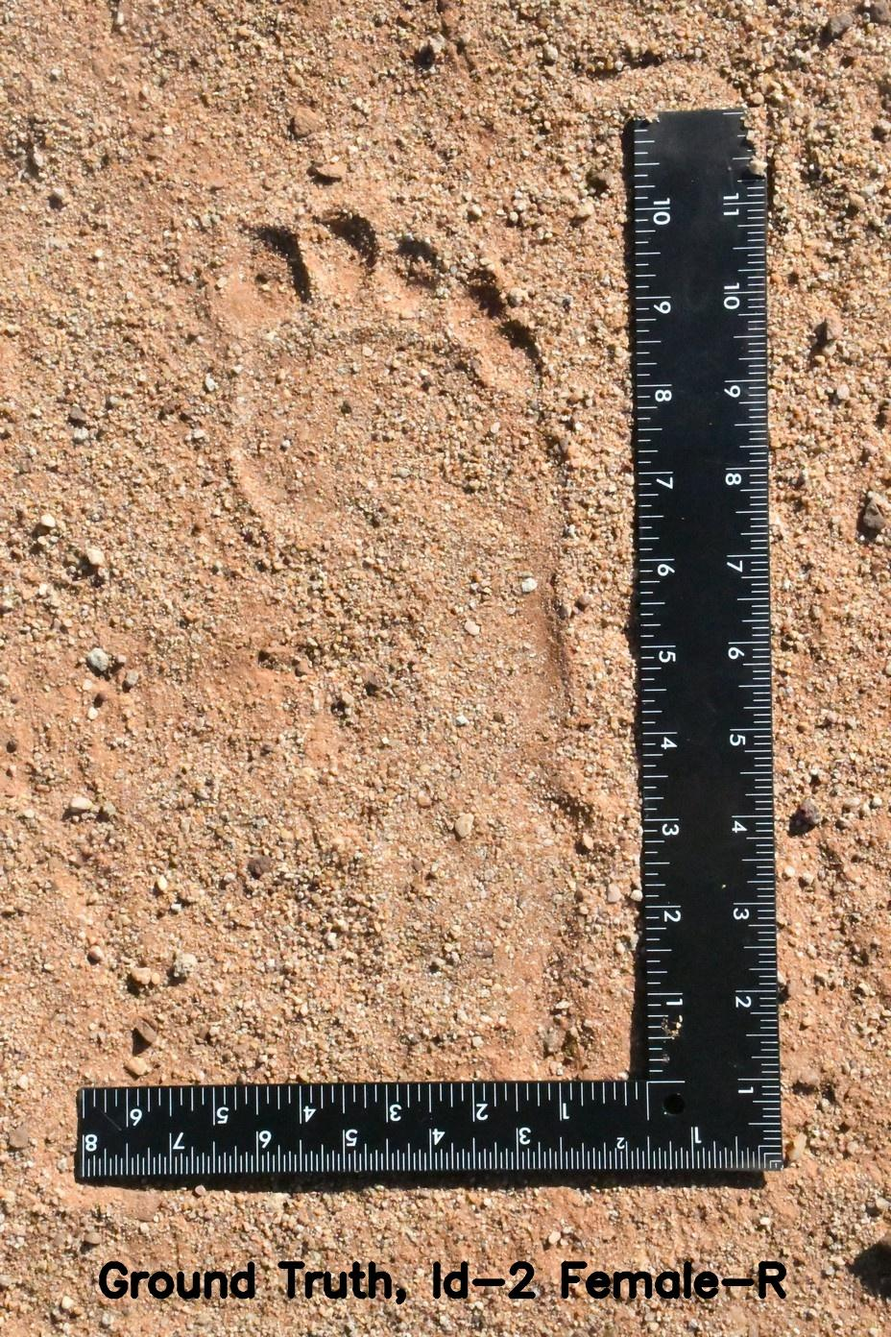human_footprint: (238, 177, 589, 1053)
